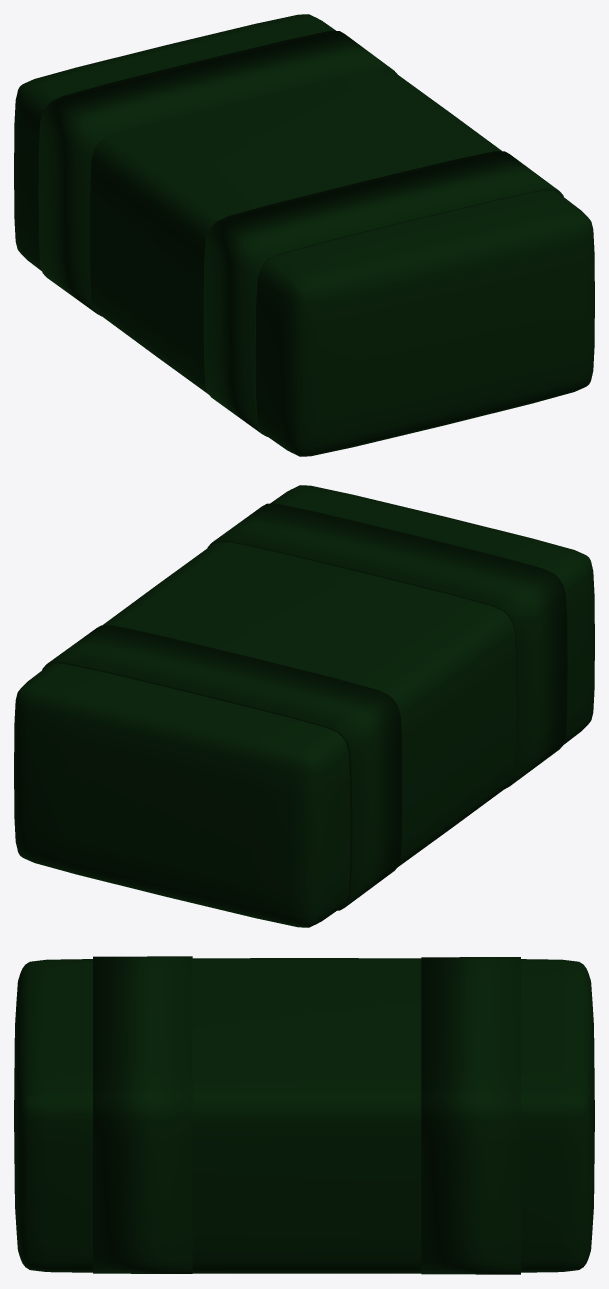
File: Weed Brick.fbx
3 renders of one model, top to bottom at view 1: azimuth 30°, elevation 25°; view 2: azimuth 150°, elevation 25°; view 3: azimuth 270°, elevation 25°, orthographic.
Visible parts, largest first — view 1: Cube.001, Cube.002, Cube.003; view 2: Cube.001, Cube.003, Cube.002; view 3: Cube.001, Cube.002, Cube.003.
Boxes of the visible parts, x1=… form: Cube.001: x1=14, y1=14, x2=594, y2=456; Cube.002: x1=203, y1=151, x2=563, y2=436; Cube.003: x1=38, y1=31, x2=396, y2=316; Cube.001: x1=14, y1=485, x2=594, y2=927; Cube.003: x1=42, y1=625, x2=402, y2=910; Cube.002: x1=207, y1=503, x2=567, y2=788; Cube.001: x1=14, y1=958, x2=594, y2=1273; Cube.002: x1=93, y1=956, x2=192, y2=1273; Cube.003: x1=421, y1=957, x2=520, y2=1274.
Size of the model in its own units: 37 by 21.19 by 59.55.
